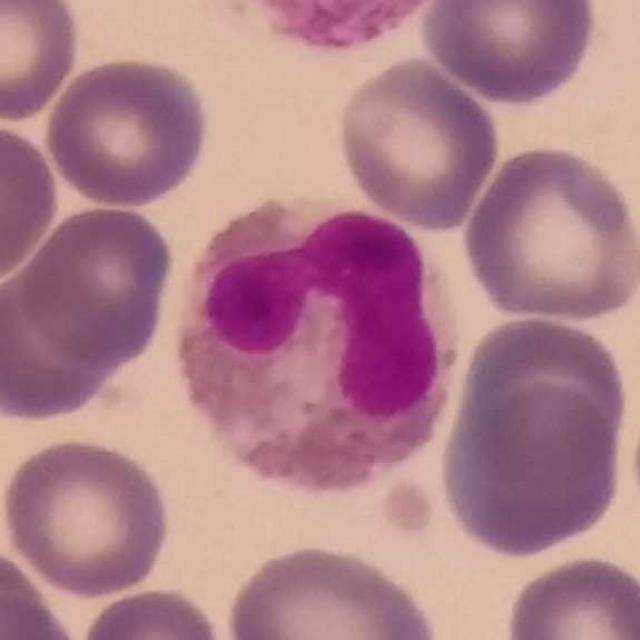eosino: (178, 188, 461, 493)
